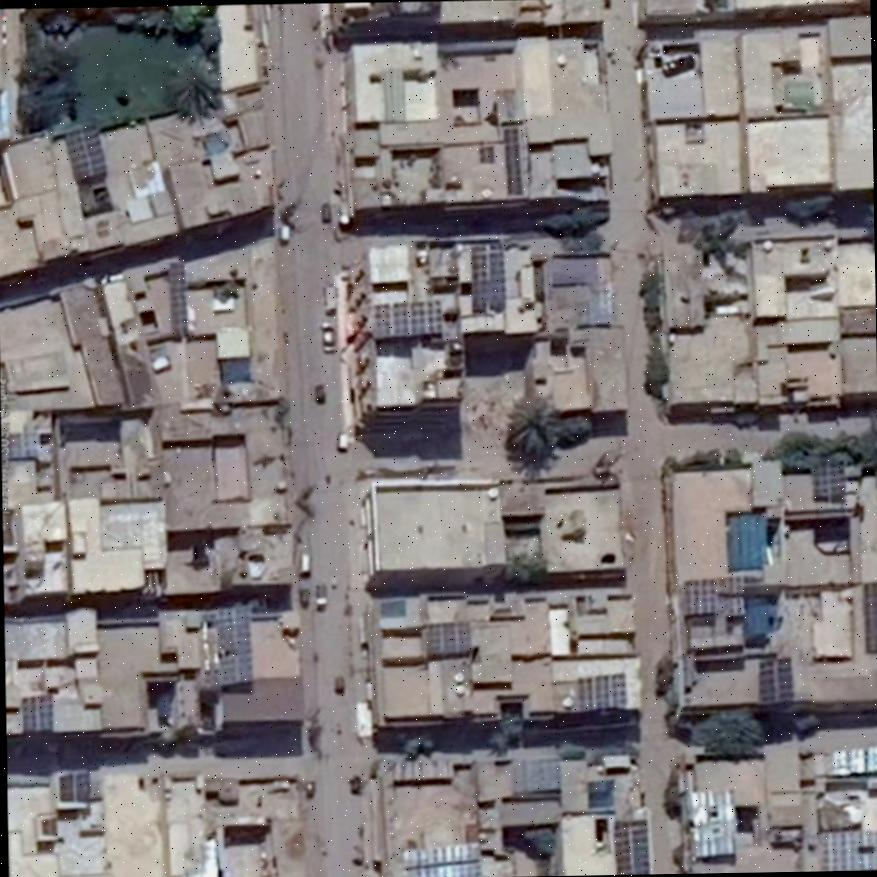Solarpanel: (216, 603, 251, 679), (403, 843, 478, 877), (469, 241, 504, 312), (63, 122, 106, 178), (374, 300, 441, 335), (820, 829, 877, 870), (682, 577, 743, 614), (611, 820, 647, 874), (579, 673, 626, 708), (757, 658, 794, 701), (425, 620, 470, 655), (503, 127, 523, 194), (21, 692, 53, 731), (812, 461, 844, 498), (171, 263, 185, 323)
